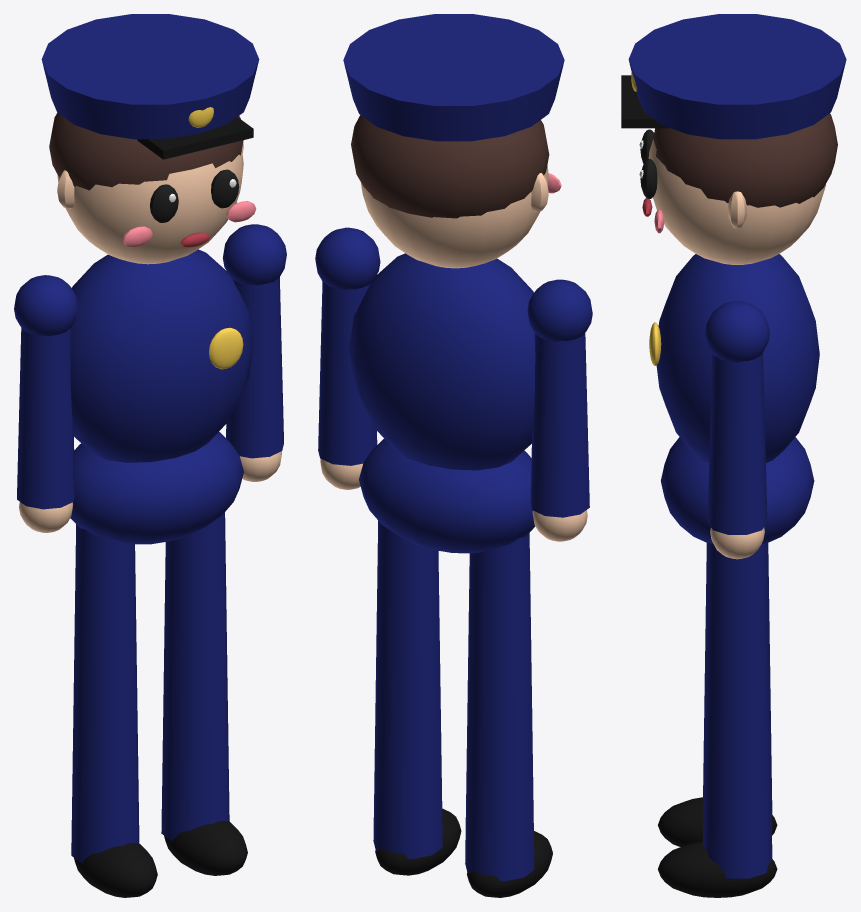
The model's file is cop_person.glb.
The picture shows the model from 3 angles, left to right: view 1: azimuth 30°, elevation 25°; view 2: azimuth 150°, elevation 25°; view 3: azimuth 270°, elevation 25°; orthographic projection.
Parts seen in each view (by area): view 1: Body.008, Leg_R.008, Leg_L.008, Arm_R.008, Arm_L.008; view 2: Body.008, Leg_R.008, Leg_L.008, Arm_R.008, Arm_L.008; view 3: Body.008, Leg_L.008, Arm_L.008, Leg_R.008.
Boxes of the visible parts, box(x1,y1,x2,y2) form: Body.008: box(41, 14, 259, 544); Leg_R.008: box(71, 524, 157, 897); Leg_L.008: box(161, 512, 247, 875); Arm_R.008: box(14, 275, 77, 532); Arm_L.008: box(223, 224, 286, 481); Body.008: box(343, 14, 564, 553); Leg_R.008: box(465, 533, 552, 897); Leg_L.008: box(373, 520, 461, 875); Arm_R.008: box(527, 279, 592, 541); Arm_L.008: box(315, 227, 380, 489); Body.008: box(621, 14, 846, 543); Leg_L.008: box(658, 542, 777, 897); Arm_L.008: box(705, 301, 769, 559); Leg_R.008: box(658, 543, 777, 846).
Size of the model in its own units: 0.614 by 1.8 by 0.4513.
